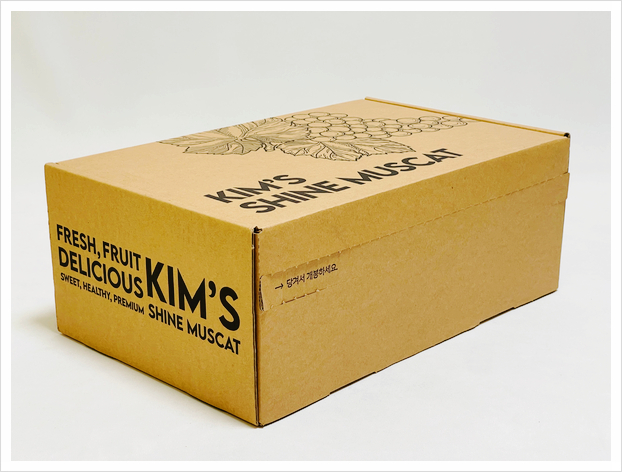undamaged: (44, 92, 572, 433)
